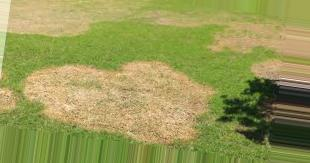patch: (42, 69, 190, 143), (16, 2, 86, 38), (215, 24, 276, 56)
